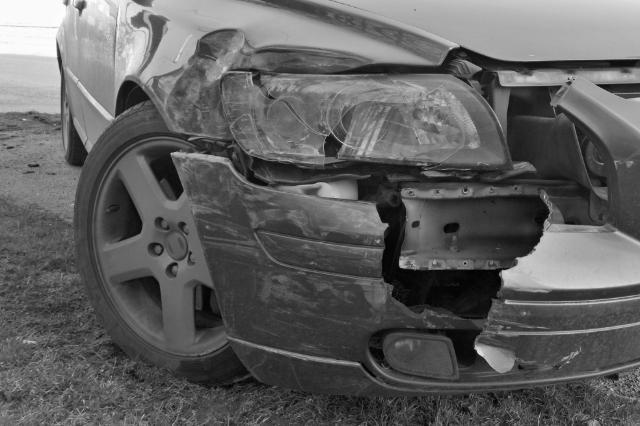Bumper: (176, 150, 640, 401)
Fender: (125, 0, 468, 145)
Light: (226, 68, 519, 169)
